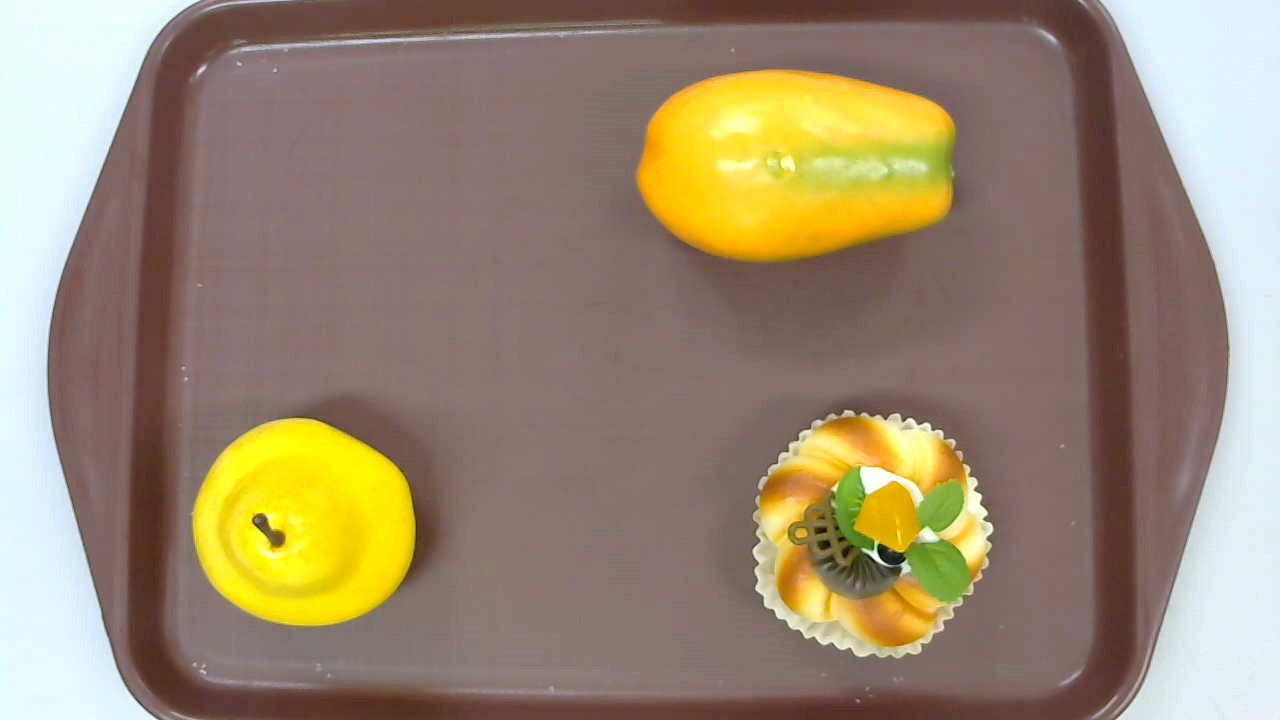fruit tart: (753, 409, 995, 658)
papya: (635, 70, 955, 266)
yellow pear: (191, 416, 416, 626)
